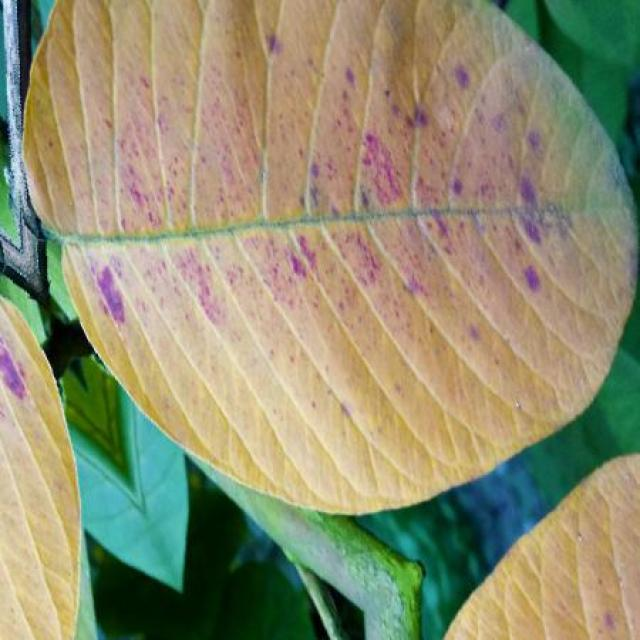Red Rust: (25, 1, 635, 513)
